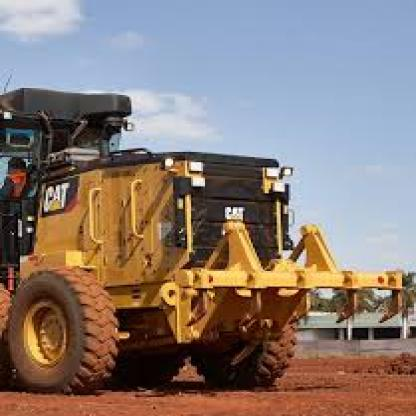bull_dozer/loader/grader: (0, 74, 414, 397)
